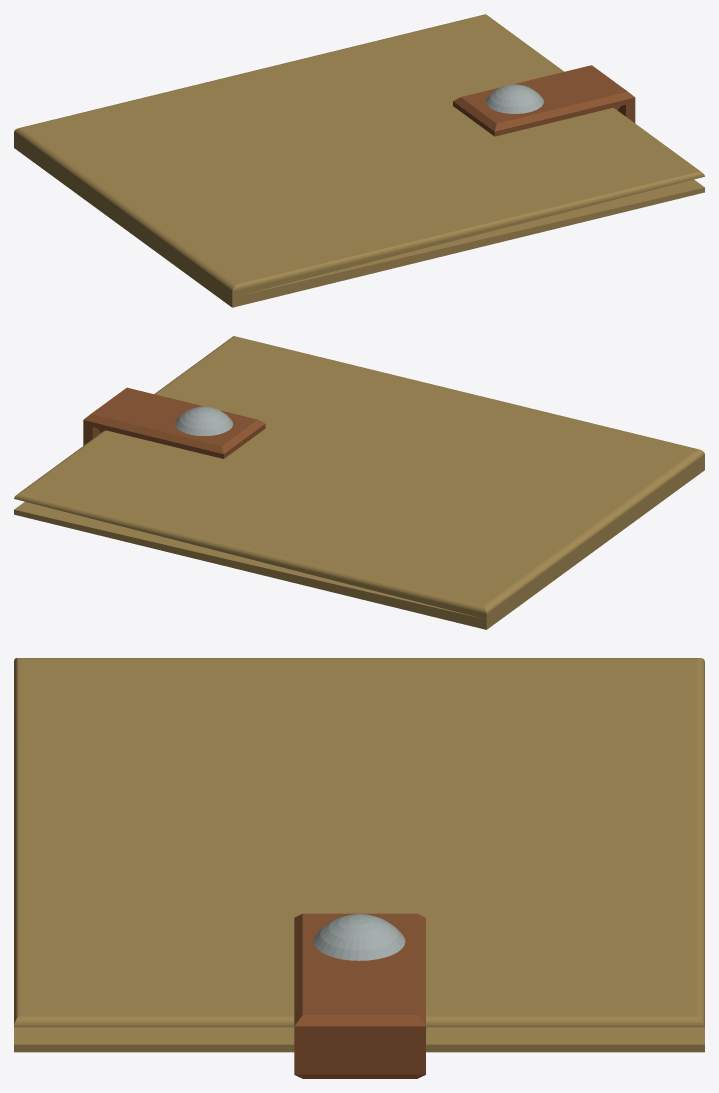
The model's file is Wallet.fbx.
The picture shows the model from 3 angles, top to bottom: view 1: azimuth 30°, elevation 25°; view 2: azimuth 150°, elevation 25°; view 3: azimuth 270°, elevation 25°; orthographic projection. The views are drawn at different scales.
Parts seen in each view (by area): view 1: item-wallet; view 2: item-wallet; view 3: item-wallet.
Part boxes in pixels (x1,y1,x2,y2): item-wallet: (14,14,704,307); item-wallet: (14,336,704,629); item-wallet: (14,658,704,1078).
Bounding box in the file's own units: 10.4 × 1.1 × 8.
